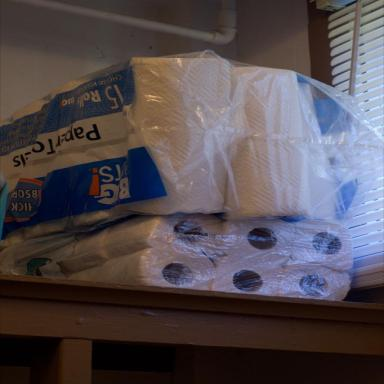plasticbag: (0, 48, 383, 242), (0, 213, 355, 301)
